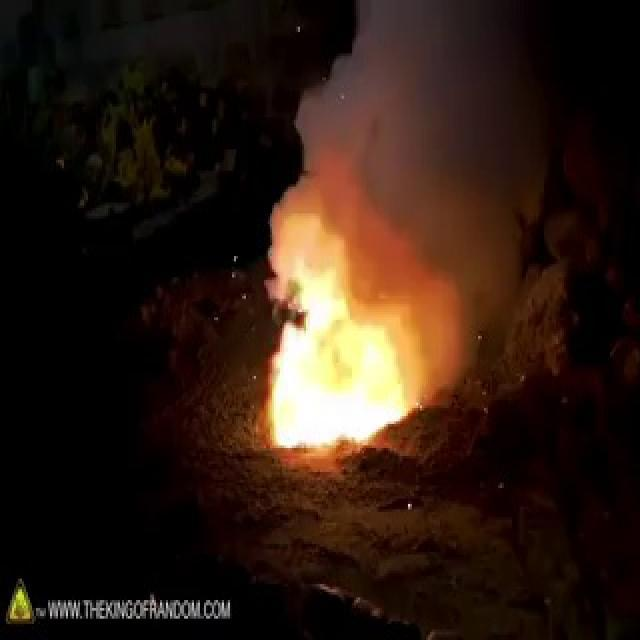fire: (260, 200, 418, 459)
